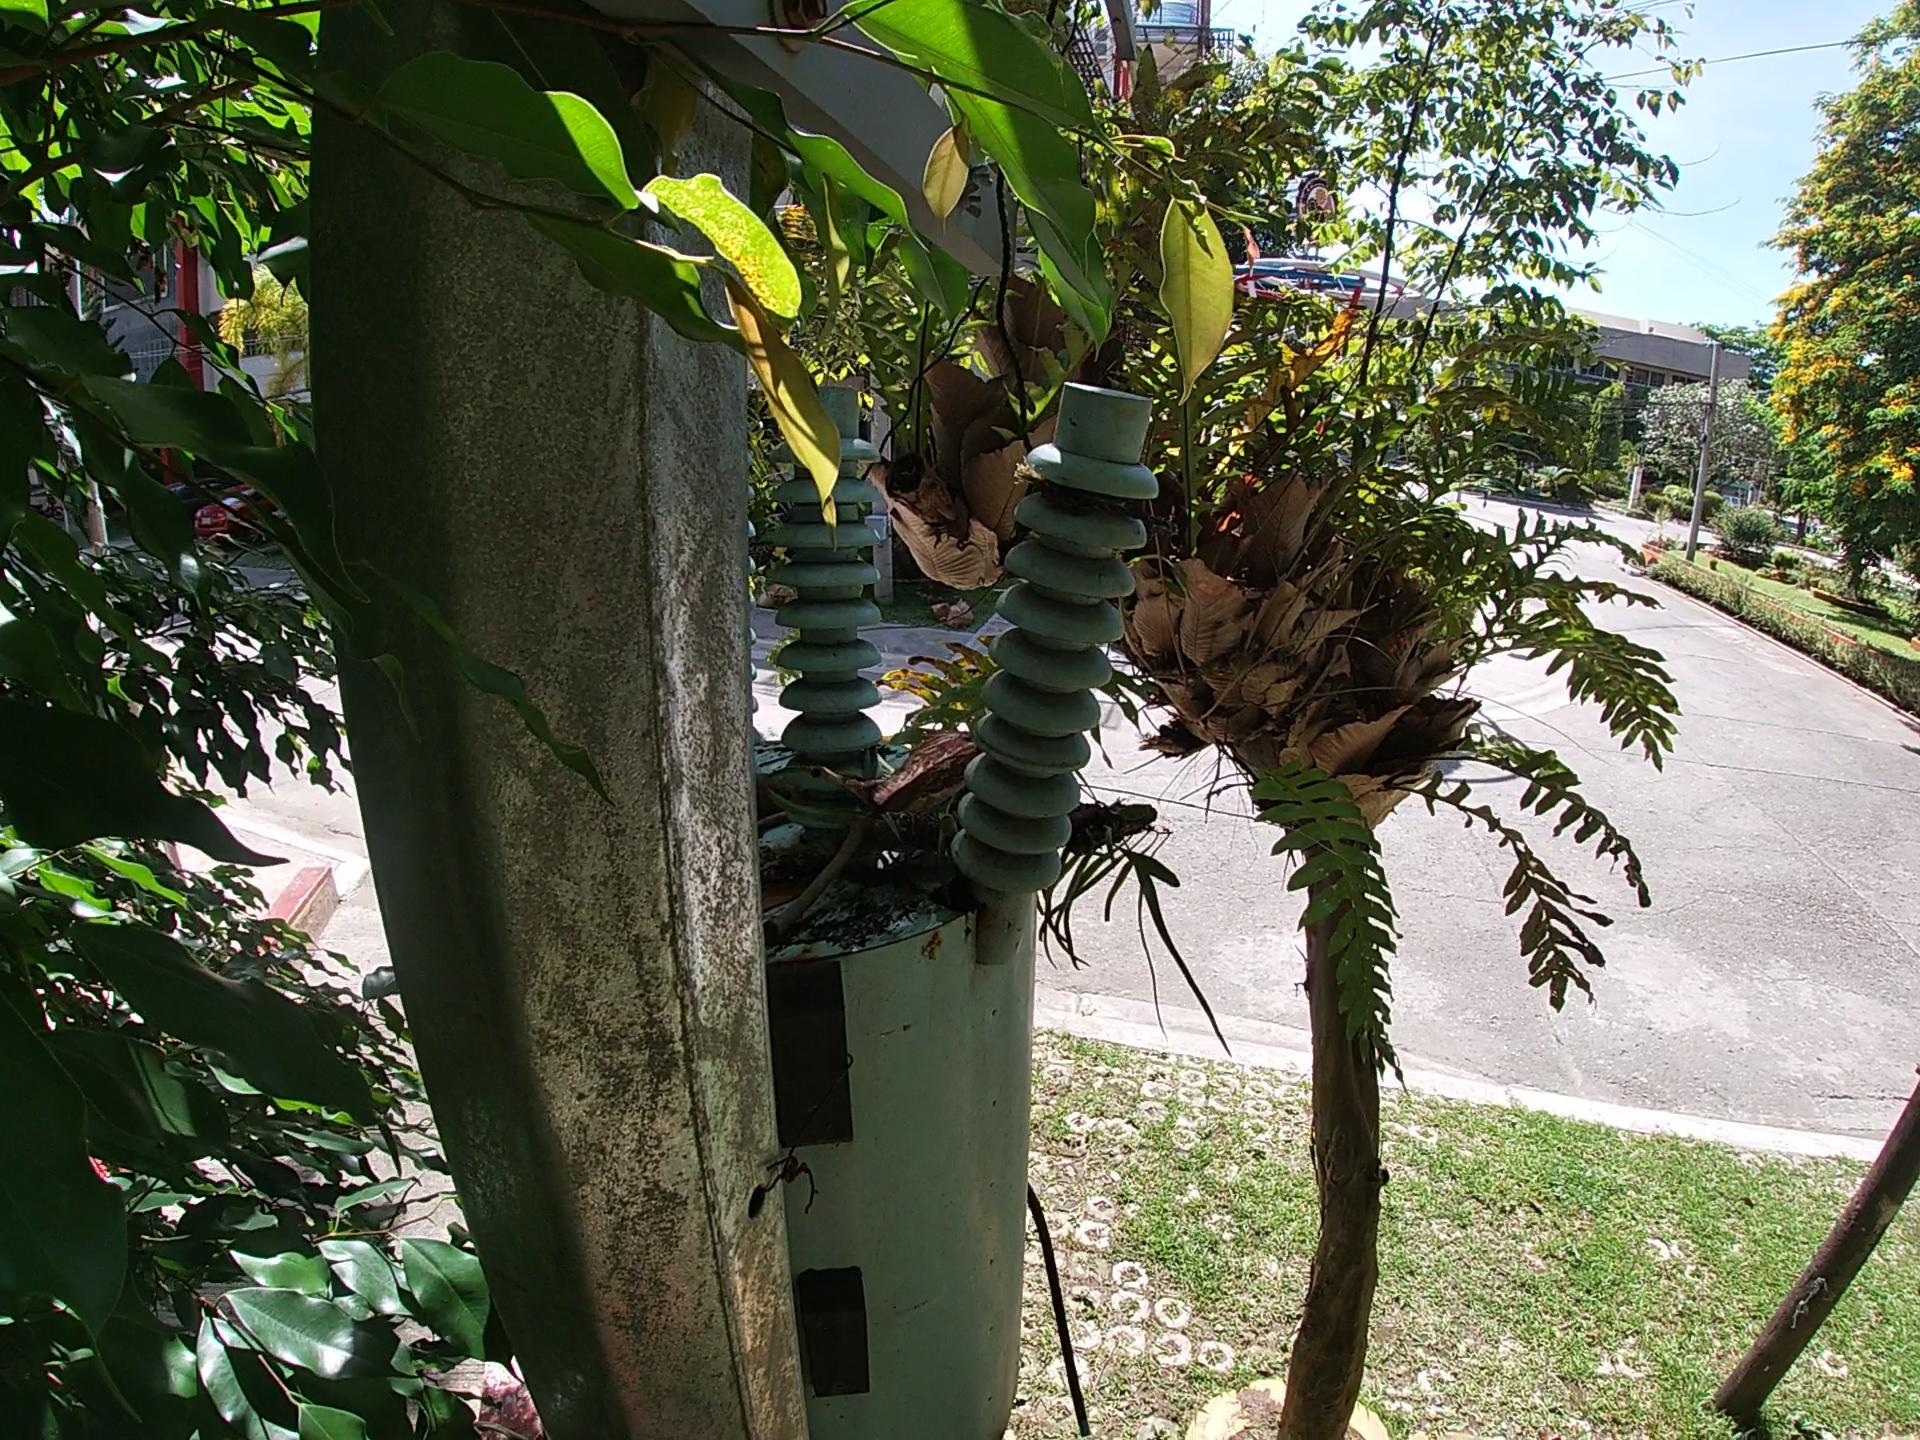branch with leaves: (788, 759, 1138, 864)
mahogany fruit: (760, 743, 943, 830)
tree branch: (763, 768, 850, 1019)
